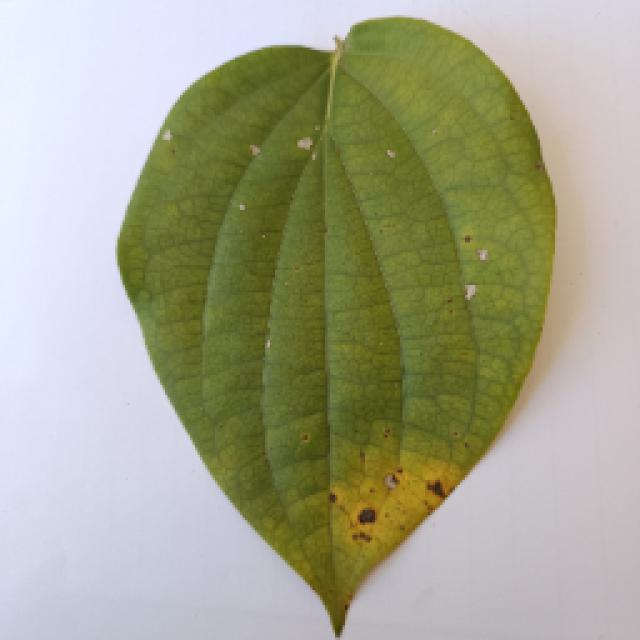slow-decline: (118, 20, 550, 630)
